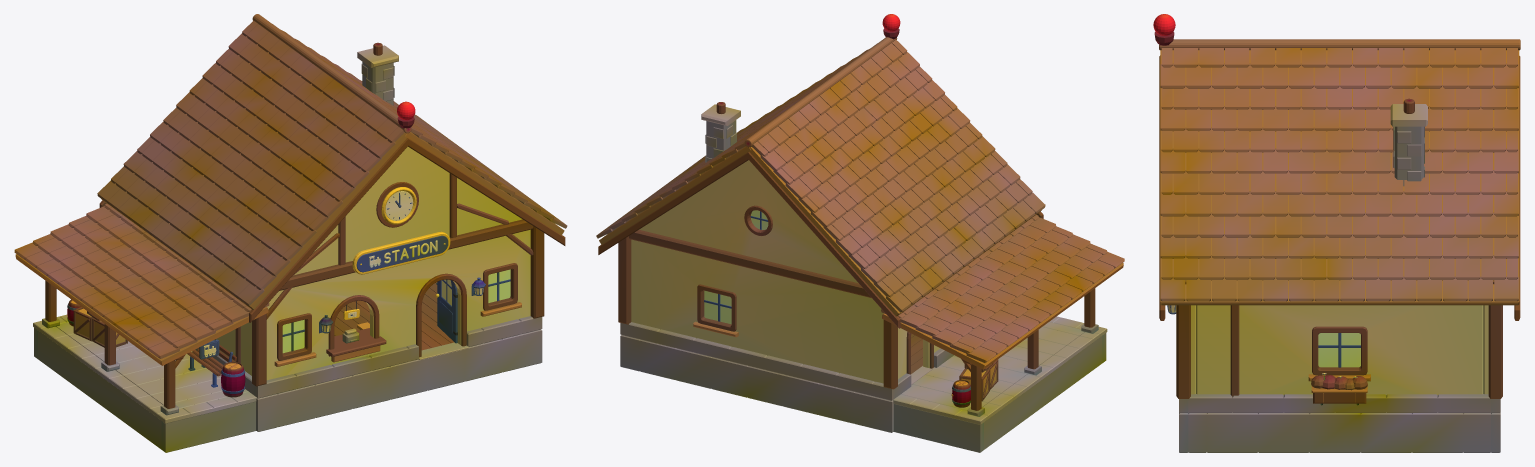
The model's file is Station_Building_Large.glb.
3 views of the same model, side by side, from view 1: azimuth 30°, elevation 25°; view 2: azimuth 150°, elevation 25°; view 3: azimuth 270°, elevation 25° (orthographic). The views are drawn at different scales.
Parts seen in each view (by area): view 1: Roof, LeanTo, Walls, Plinth, Facade, Openings, Door, Loose_CrateStack_Canopy, Loose_Barrel_Canopy, Loose_Bench_Canopy; view 2: Roof, Walls, LeanTo, Plinth, Facade, Loose_CrateStack_Canopy; view 3: Roof, Walls, Plinth, Facade.
Boxes of the visible parts, box(x1,y1,x2,y2) form: Roof: box(97, 14, 567, 309); LeanTo: box(14, 204, 269, 452); Walls: box(99, 138, 565, 386); Plinth: box(195, 282, 542, 431); Facade: box(274, 182, 521, 366); Openings: box(326, 273, 466, 362); Door: box(435, 279, 457, 343); Loose_CrateStack_Canopy: box(73, 307, 127, 347); Loose_Barrel_Canopy: box(221, 362, 245, 397); Loose_Bench_Canopy: box(187, 344, 236, 387); Roof: box(596, 14, 1045, 316); Walls: box(598, 152, 1043, 389); LeanTo: box(881, 214, 1124, 452); Plinth: box(620, 322, 953, 432); Facade: box(693, 205, 933, 374); Loose_CrateStack_Canopy: box(959, 359, 998, 401); Roof: box(1153, 14, 1520, 305); Walls: box(1159, 55, 1520, 398); Plinth: box(1179, 394, 1500, 452); Facade: box(1167, 305, 1370, 405).
Bounding box in the file's own units: 13.03 × 9.19 × 8.59.
